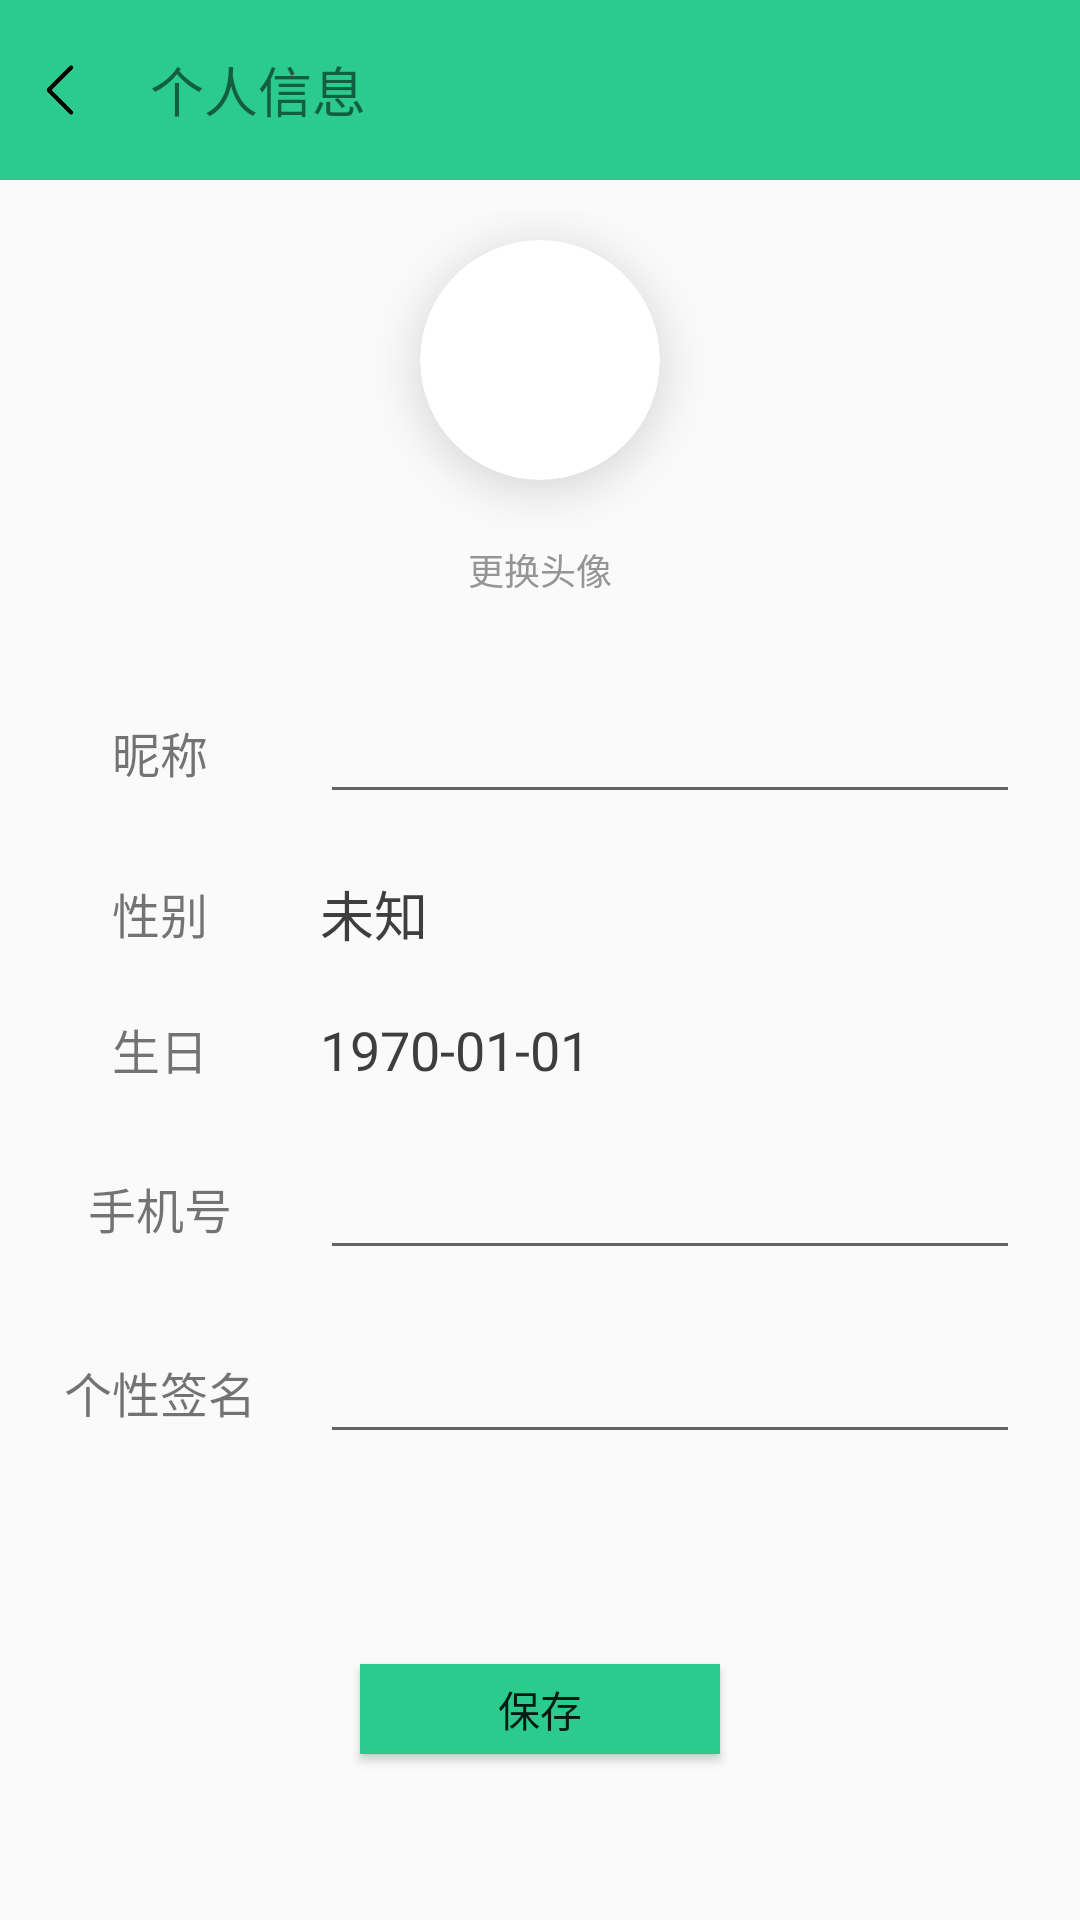

Locate icon controls on the screen. Image size 1080 × 1920, boxes as BBox(x1, y1, x2, y2).
arrow left: BBox(47, 65, 74, 115)
